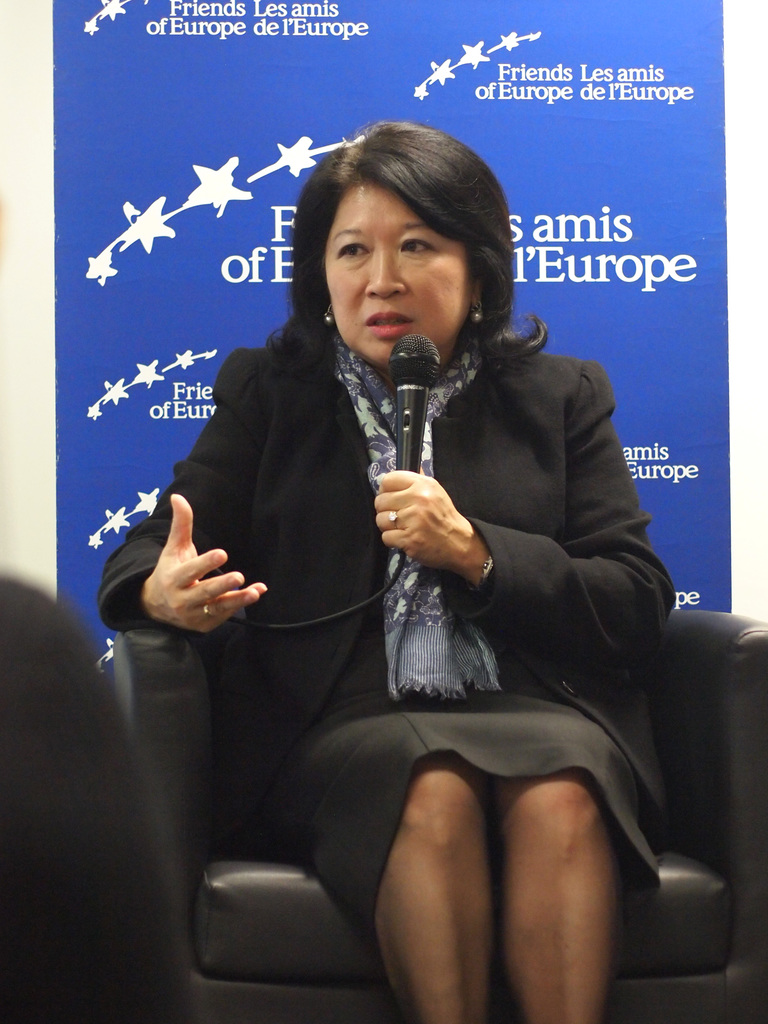Human_hand: (141, 487, 264, 626), (374, 463, 476, 586)
